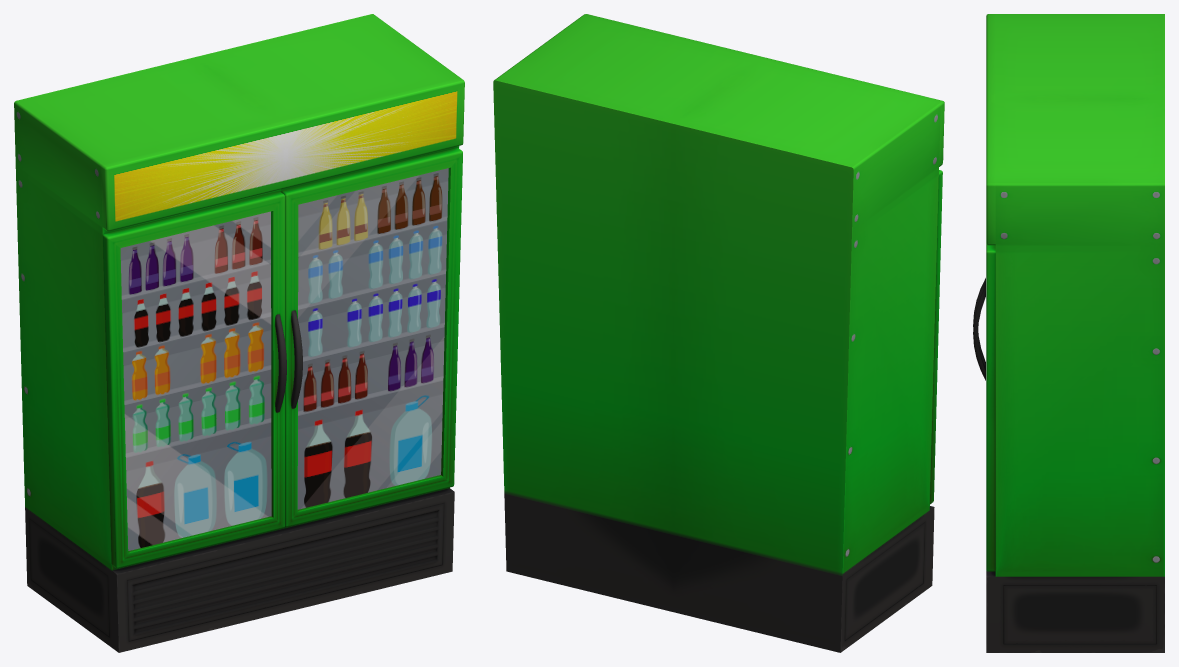
File: CommRefrigerator05.FBX
The picture shows the model from 3 angles, left to right: view 1: azimuth 30°, elevation 25°; view 2: azimuth 150°, elevation 25°; view 3: azimuth 270°, elevation 25°; orthographic projection. The views are drawn at different scales.
Parts seen in each view (by area): view 1: CommRefrigerator05; view 2: CommRefrigerator05; view 3: CommRefrigerator05.
Part boxes in pixels (bbox=[...]): CommRefrigerator05: bbox=[14, 14, 464, 652]; CommRefrigerator05: bbox=[493, 14, 944, 652]; CommRefrigerator05: bbox=[973, 14, 1164, 652].
Size of what is drawn, in the model's own units: 1.7 by 2.2 by 0.8049.
